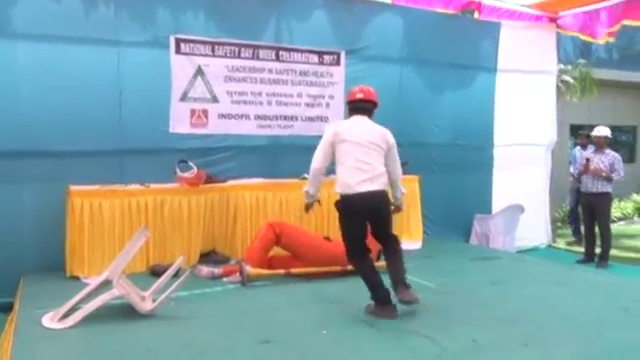helmet: (345, 84, 381, 107), (591, 125, 614, 140)
helmet_off: (576, 126, 591, 149)
helmet_on: (343, 83, 380, 122), (590, 123, 613, 153)
person: (302, 82, 417, 318), (196, 219, 386, 280), (580, 124, 625, 269), (568, 127, 589, 248)
